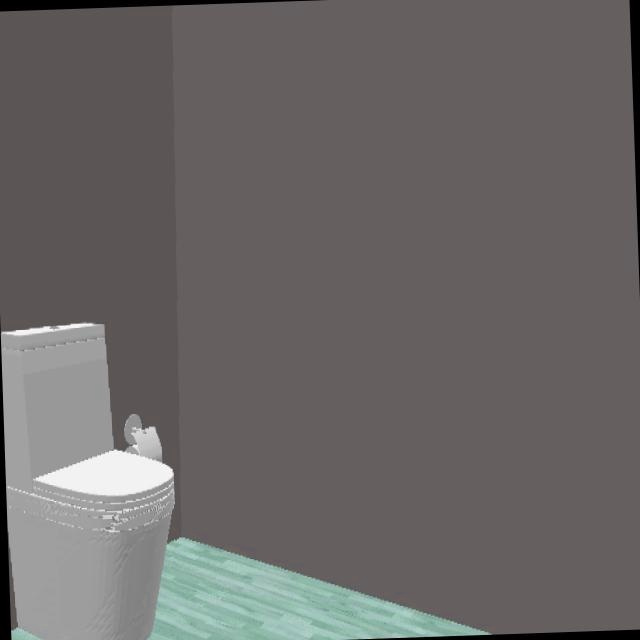toilet: (0, 324, 173, 640)
